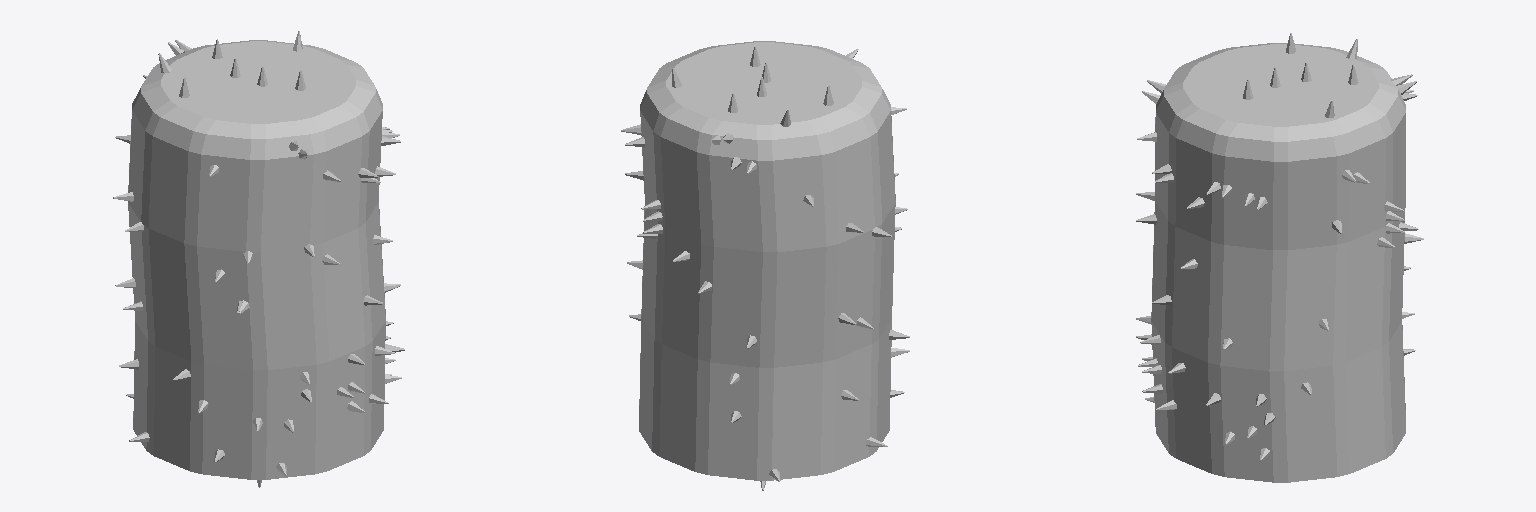
File: cactus_small_1.obj
3 renders of one model, left to right at view 1: azimuth 30°, elevation 25°; view 2: azimuth 150°, elevation 25°; view 3: azimuth 270°, elevation 25°, orthographic.
Visible parts, largest first — view 1: cactus_small_1; view 2: cactus_small_1; view 3: cactus_small_1.
Boxes of the visible parts, box(x1,y1,x2,y2) form: cactus_small_1: box(113, 31, 404, 487); cactus_small_1: box(621, 41, 909, 490); cactus_small_1: box(1136, 33, 1423, 482).
Bounding box in the file's own units: 1.62 × 2.31 × 1.58.